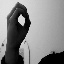o: (2, 1, 34, 43)
